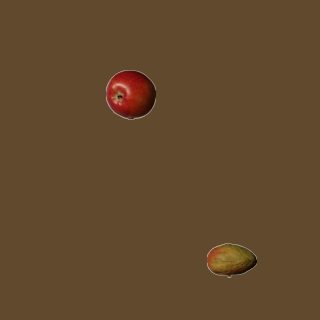Apple Braeburn: (105, 69, 155, 119)
Papaya: (206, 235, 256, 285)
